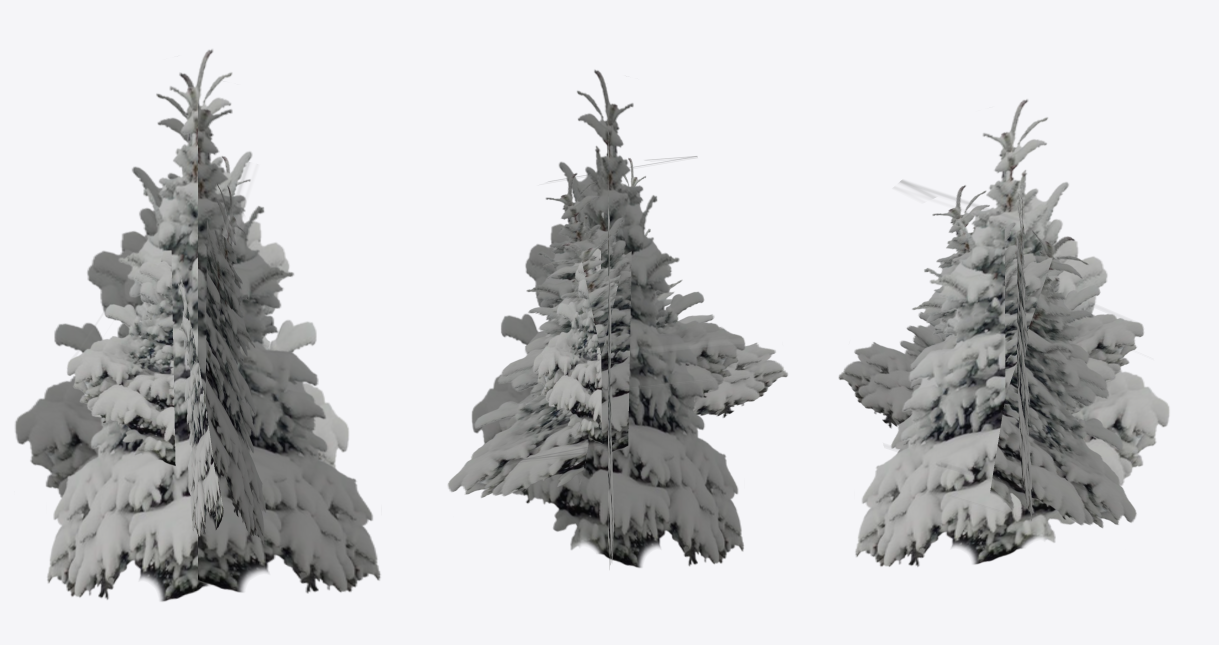
Rendered from snowtree1.glb.
3 views of the same model, side by side, from view 1: azimuth 30°, elevation 25°; view 2: azimuth 150°, elevation 25°; view 3: azimuth 270°, elevation 25° (orthographic). The views are drawn at different scales.
Visible parts, largest first — view 1: snowtree; view 2: snowtree; view 3: snowtree.
Part boxes in pixels (left/top/right/bottom): snowtree: left=15, top=49, right=380, bottom=601; snowtree: left=447, top=69, right=787, bottom=569; snowtree: left=838, top=99, right=1169, bottom=566.
Size of the model in its own units: 13.71 by 21.88 by 15.64.
Materials: 1 (1 with a texture image).
